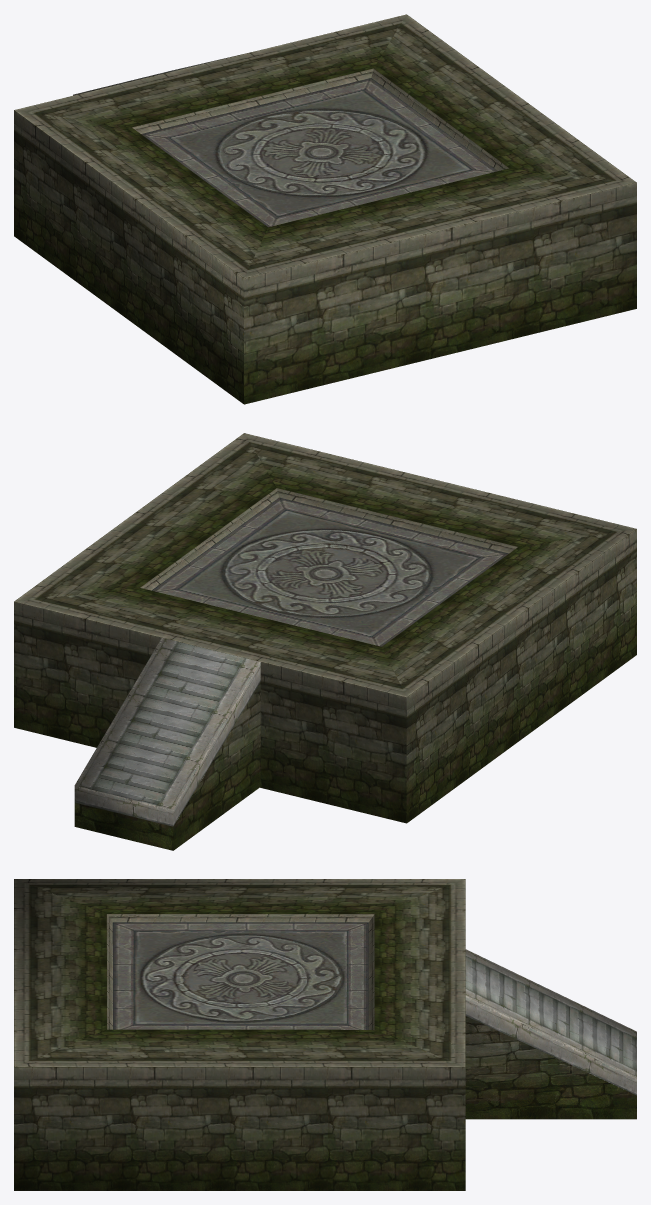
File: environment_building_pingtai_004_c.FBX
The picture shows the model from 3 angles, top to bottom: view 1: azimuth 30°, elevation 25°; view 2: azimuth 150°, elevation 25°; view 3: azimuth 270°, elevation 25°; orthographic projection.
Visible parts, largest first — view 1: environment_building_pingtai_004_c1, environment_building_pingtai_004_c4; view 2: environment_building_pingtai_004_c1, environment_building_pingtai_004_c4, environment_building_pingtai_004_c2, environment_building_pingtai_004_c3; view 3: environment_building_pingtai_004_c1, environment_building_pingtai_004_c4, environment_building_pingtai_004_c2, environment_building_pingtai_004_c3.
Part boxes in pixels (<box>): environment_building_pingtai_004_c1: <box>14,14,636,404</box>; environment_building_pingtai_004_c4: <box>141,78,497,227</box>; environment_building_pingtai_004_c1: <box>14,433,636,823</box>; environment_building_pingtai_004_c4: <box>152,497,508,646</box>; environment_building_pingtai_004_c2: <box>74,638,260,826</box>; environment_building_pingtai_004_c3: <box>74,682,260,850</box>; environment_building_pingtai_004_c1: <box>14,879,465,1190</box>; environment_building_pingtai_004_c4: <box>112,922,368,1029</box>; environment_building_pingtai_004_c2: <box>465,949,636,1095</box>; environment_building_pingtai_004_c3: <box>465,1016,636,1119</box>.
Size of the model in its own units: 272 by 83.46 by 380.
